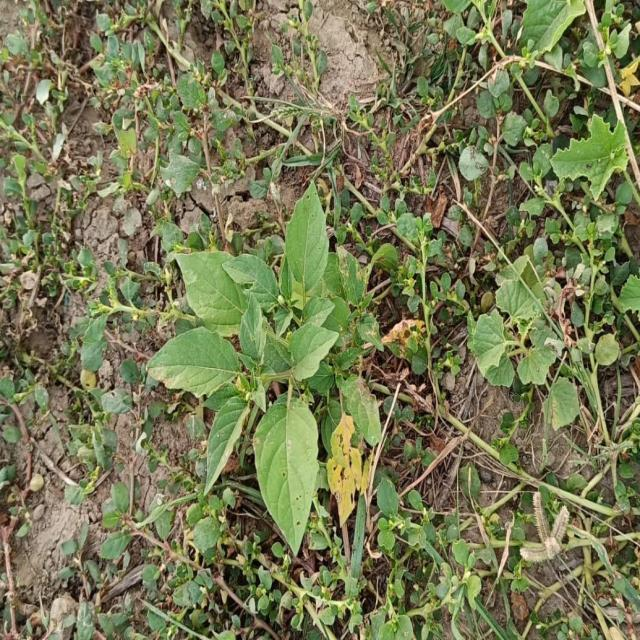weed: (147, 183, 383, 553)
